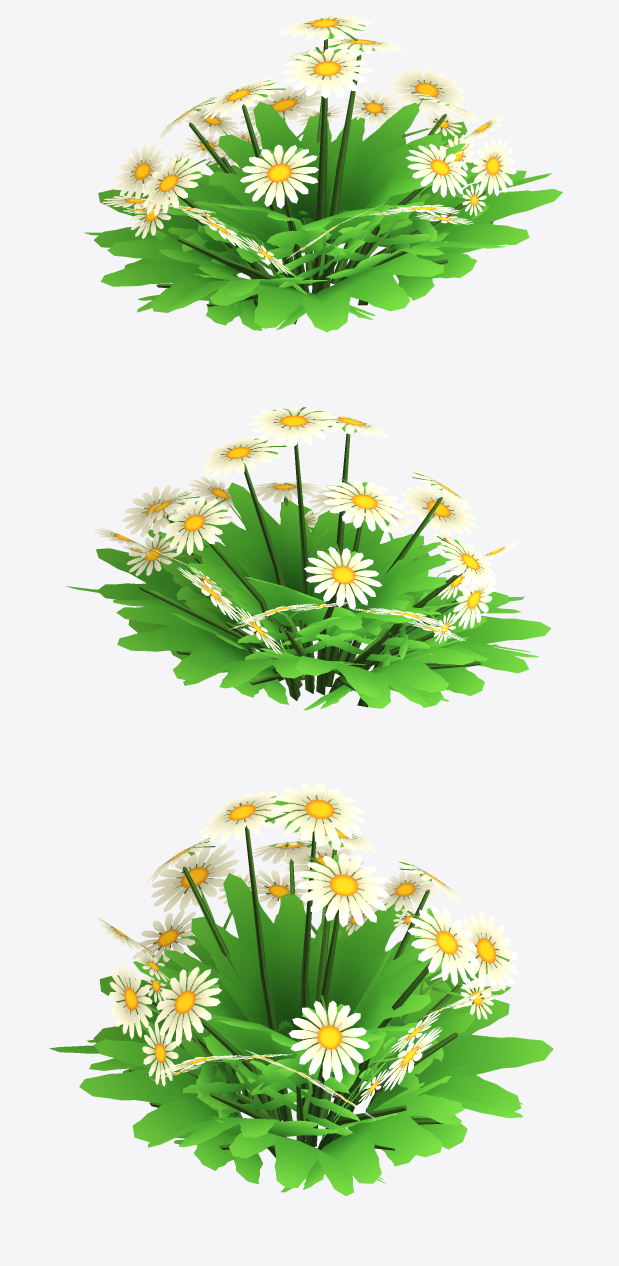
File: daisy.glb
3 renders of one model, top to bottom at view 1: azimuth 30°, elevation 25°; view 2: azimuth 150°, elevation 25°; view 3: azimuth 270°, elevation 25°, orthographic. The views are drawn at different scales.
Visible parts, largest first — view 1: DaisyFoliage, DaisyStems; view 2: DaisyFoliage, DaisyStems; view 3: DaisyFoliage, DaisyStems.
Boxes of the visible parts, bbox=[...] form: DaisyFoliage: bbox=[84, 15, 562, 332]; DaisyStems: bbox=[156, 39, 493, 324]; DaisyFoliage: bbox=[65, 407, 551, 710]; DaisyStems: bbox=[139, 433, 481, 707]; DaisyFoliage: bbox=[49, 782, 553, 1196]; DaisyStems: bbox=[129, 823, 460, 1158].
Bounding box in the file's own units: 0.97 × 0.47 × 0.72.
Materials: 2 (2 with a texture image).
